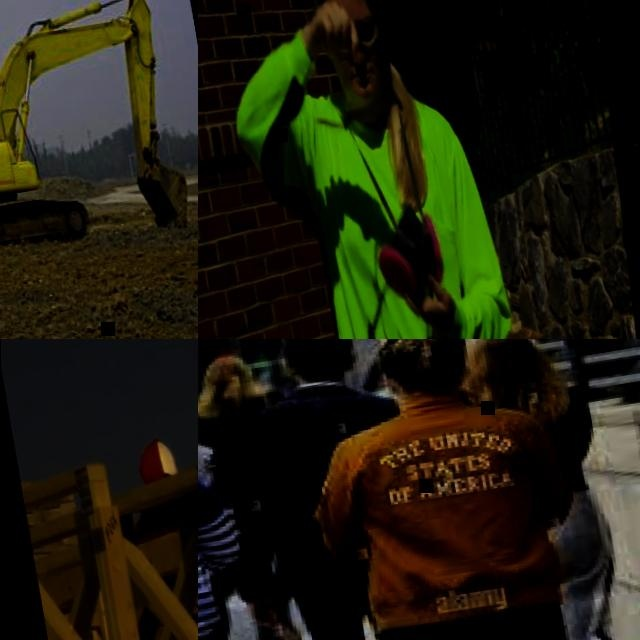Mask: (369, 197, 451, 314)
NO-Hardhat: (370, 339, 461, 387), (472, 339, 544, 384), (278, 339, 359, 373), (133, 437, 178, 485), (198, 350, 254, 388)
NO-Mask: (337, 54, 390, 110)
NO-Safety Vest: (327, 393, 563, 622), (294, 79, 500, 339), (253, 381, 404, 584), (488, 383, 590, 497), (198, 393, 275, 439), (198, 460, 217, 639)
Person: (205, 0, 542, 339), (295, 339, 637, 640), (198, 339, 473, 640), (450, 339, 640, 640), (198, 343, 326, 640), (198, 380, 289, 640)
machinery: (0, 0, 192, 269)
